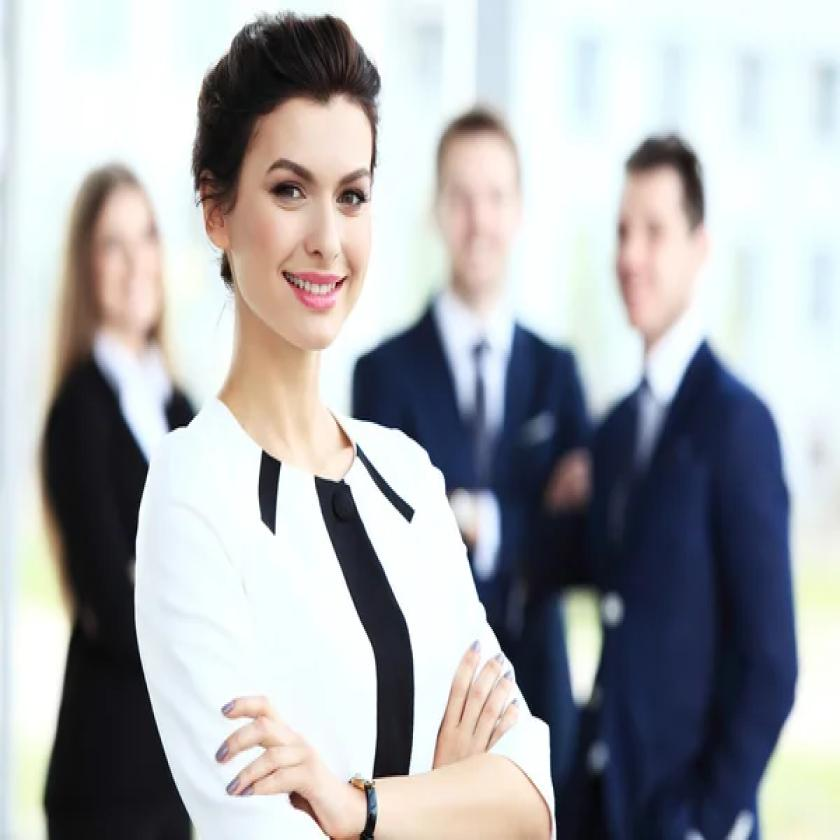Sin_casco: (194, 13, 384, 362), (604, 126, 715, 342), (56, 167, 172, 352), (431, 95, 528, 308)
